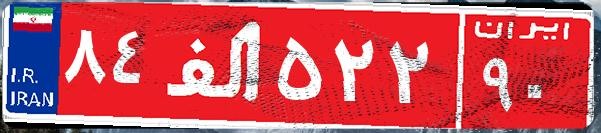0: (525, 38, 570, 115)
2: (385, 28, 445, 110), (330, 28, 385, 110)
4: (110, 28, 158, 105)
5: (273, 28, 330, 110)
8: (57, 26, 110, 107)
9: (475, 38, 525, 113)
الف: (158, 15, 273, 115)
